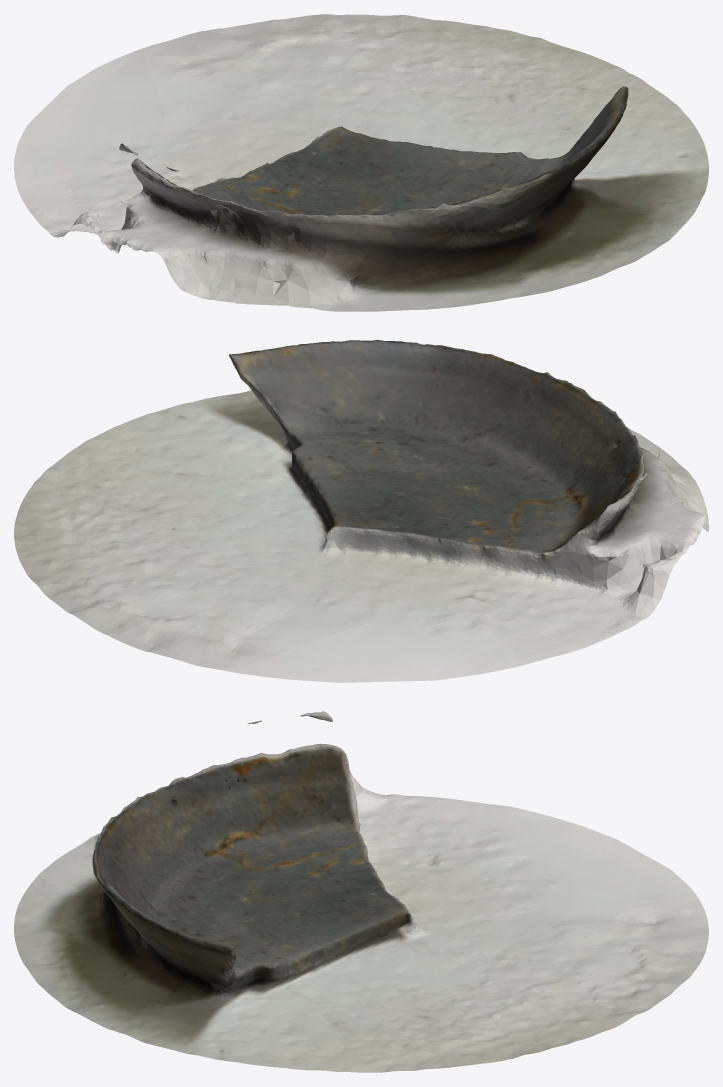
3 renders of one model, top to bottom at view 1: azimuth 30°, elevation 25°; view 2: azimuth 150°, elevation 25°; view 3: azimuth 270°, elevation 25°, orthographic. The views are drawn at different scales.
Parts seen in each view (by area): view 1: mesh; view 2: mesh; view 3: mesh.
Part boxes in pixels (bbox=[...]): mesh: bbox=[14, 14, 708, 311]; mesh: bbox=[14, 340, 708, 682]; mesh: bbox=[14, 711, 708, 1072].
Size of the model in its own units: 0.2182 by 0.037 by 0.2253.
Materials: 1 (1 with a texture image).
